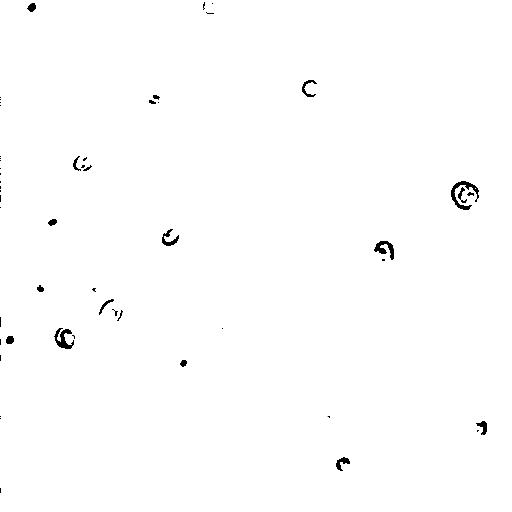micro-algae: (216, 208, 275, 265), (314, 0, 376, 30), (37, 202, 71, 235), (27, 267, 63, 298), (0, 319, 25, 354), (11, 1, 49, 24), (82, 272, 114, 299), (452, 179, 479, 210), (371, 237, 397, 265), (97, 297, 123, 323), (171, 352, 197, 377), (54, 324, 75, 351), (470, 415, 490, 441), (71, 151, 94, 171), (159, 227, 181, 247), (300, 77, 319, 97), (331, 454, 352, 472), (200, 0, 223, 13)
